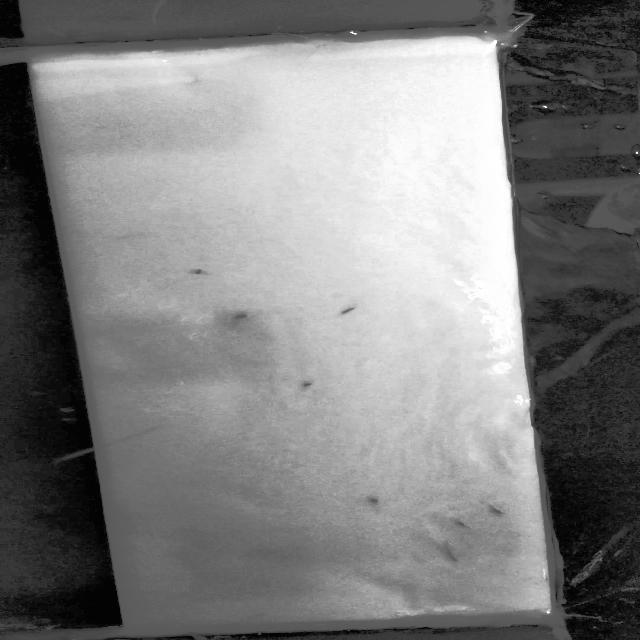shrimp: (434, 517, 484, 540), (477, 501, 522, 523), (430, 541, 460, 565), (222, 308, 262, 324), (185, 264, 217, 282), (330, 305, 371, 319), (287, 378, 325, 390), (355, 497, 391, 508)
